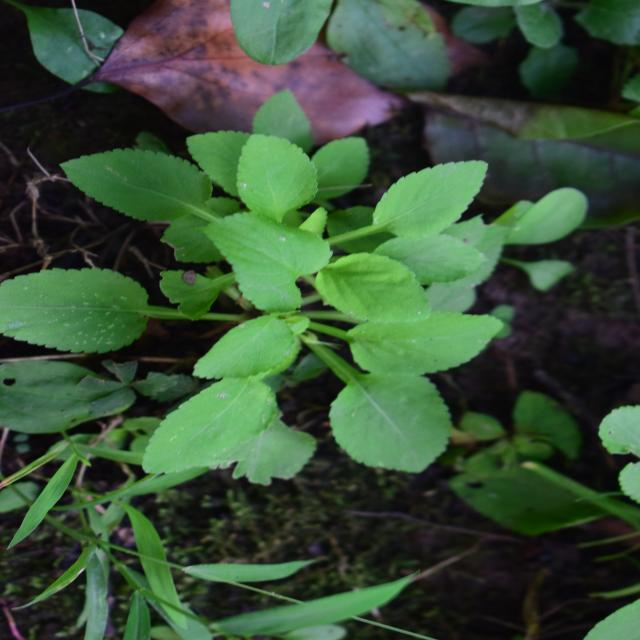Viola: (119, 113, 468, 540)
